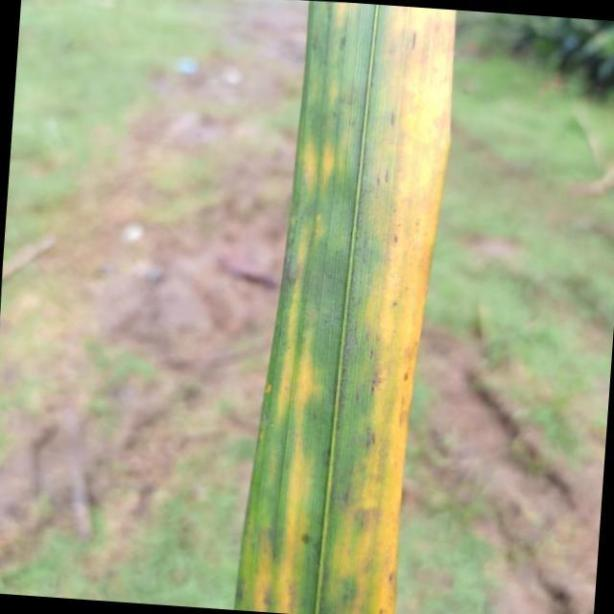Megnesium: (232, 0, 452, 614)
